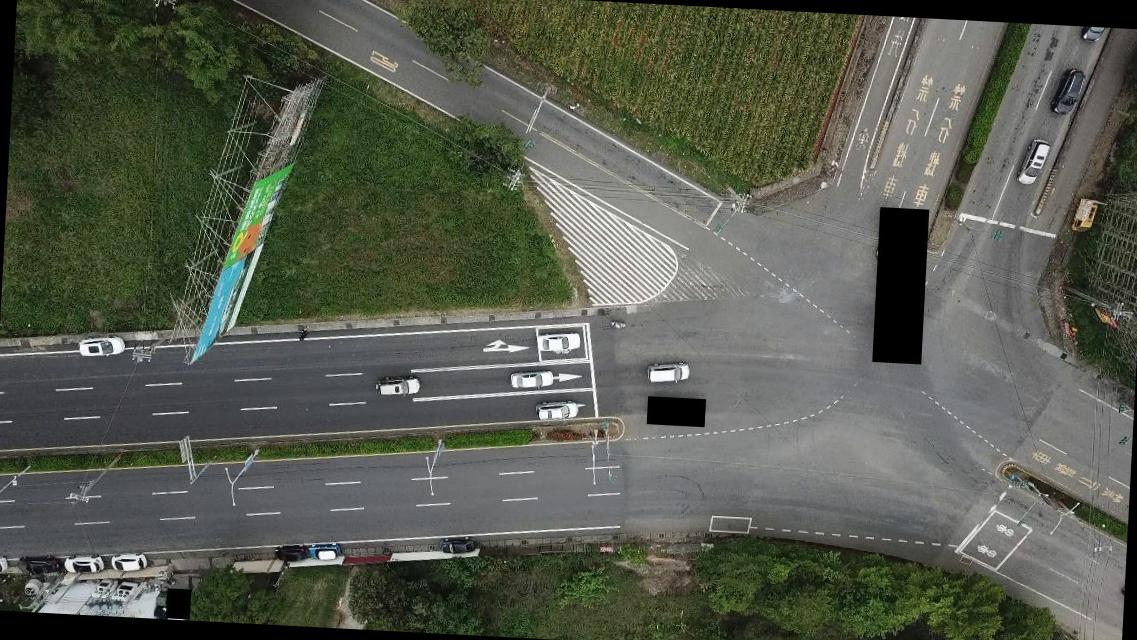vehicle: (1050, 69, 1086, 118), (1018, 138, 1049, 186), (77, 334, 126, 359), (506, 367, 554, 391), (373, 375, 421, 399), (643, 360, 690, 384), (532, 401, 580, 424), (1071, 198, 1098, 234), (14, 554, 58, 576), (61, 553, 102, 575), (536, 332, 580, 352), (108, 551, 146, 571), (273, 543, 308, 563), (438, 536, 476, 554), (308, 542, 339, 560), (1078, 26, 1107, 44), (0, 554, 9, 576)
